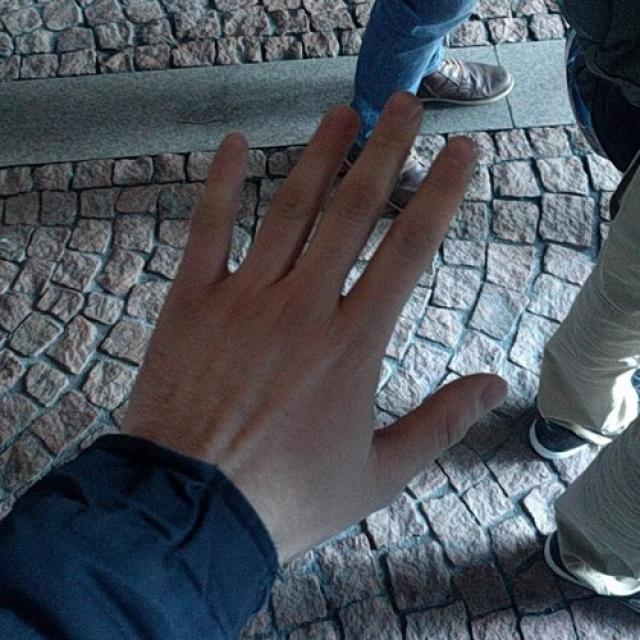paper: (121, 90, 508, 523)
